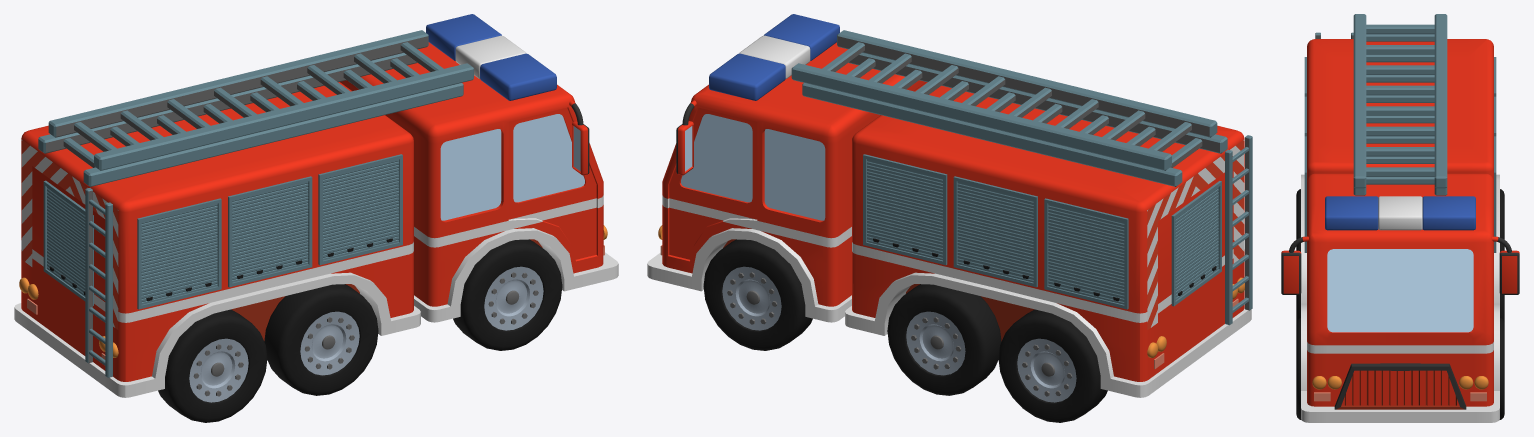
File: 19_Firetruck_AIRPORT_0.obj
3 renders of one model, left to right at view 1: azimuth 30°, elevation 25°; view 2: azimuth 150°, elevation 25°; view 3: azimuth 270°, elevation 25°, orthographic. The views are drawn at different scales.
Parts seen in each view (by area): view 1: 19.Firetruck_AIRPORT_0; view 2: 19.Firetruck_AIRPORT_0; view 3: 19.Firetruck_AIRPORT_0.
Part boxes in pixels (left/top/right/bottom): 19.Firetruck_AIRPORT_0: left=14, top=14, right=618, bottom=422; 19.Firetruck_AIRPORT_0: left=647, top=14, right=1252, bottom=422; 19.Firetruck_AIRPORT_0: left=1281, top=14, right=1519, bottom=422.
Size of the model in its own units: 8.05 by 3.99 by 3.67.
1 material, 1 textured.
